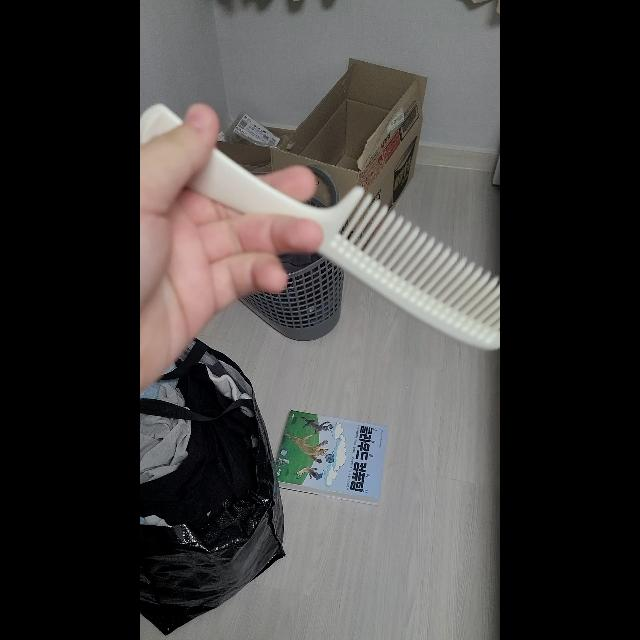COMB: (140, 105, 500, 351)
